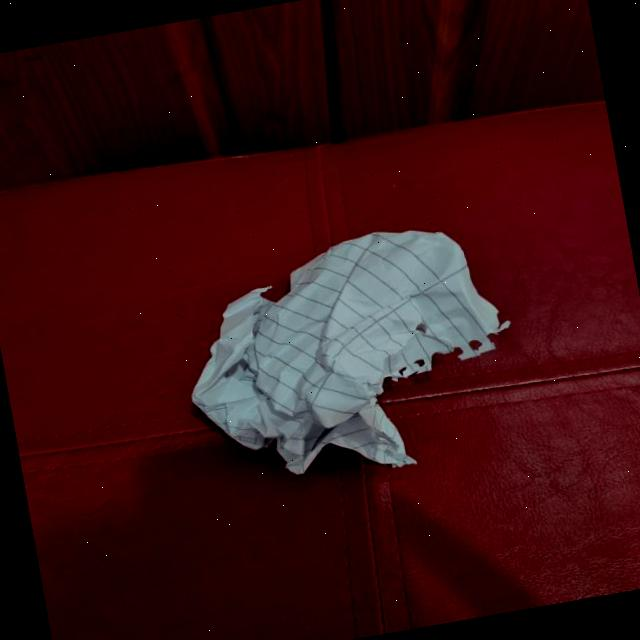trash: (165, 210, 521, 493)
